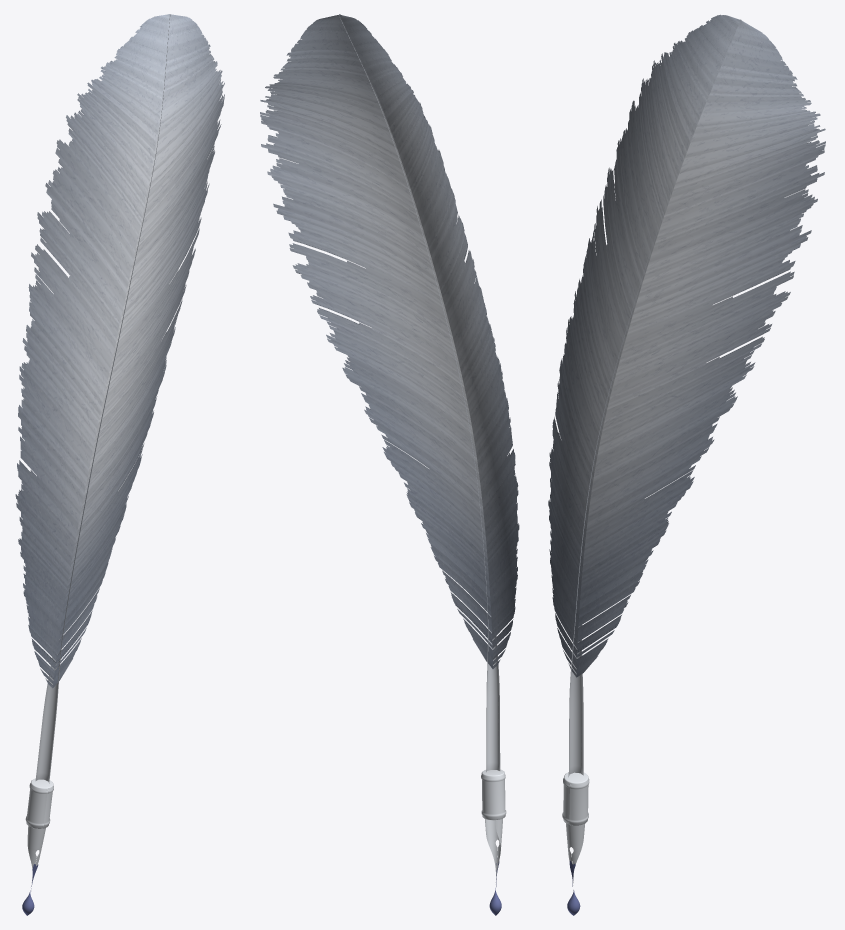
File: pluma.glb
The picture shows the model from 3 angles, left to right: view 1: azimuth 30°, elevation 25°; view 2: azimuth 150°, elevation 25°; view 3: azimuth 330°, elevation 25°; orthographic projection. The views are drawn at different scales.
Visible parts, largest first — view 1: Vexilo_izquierdo, Vexilo_derecho, Raquis, Virola; view 2: Vexilo_derecho, Vexilo_izquierdo, Raquis, Virola; view 3: Vexilo_derecho, Vexilo_izquierdo, Raquis, Virola.
Boxes of the visible parts, box(x1,y1,x2,y2) form: Vexilo_izquierdo: box(15, 14, 169, 687); Vexilo_derecho: box(53, 14, 224, 687); Raquis: box(35, 14, 170, 783); Virola: box(25, 778, 53, 828); Vexilo_derecho: box(260, 14, 492, 668); Vexilo_izquierdo: box(340, 14, 519, 668); Raquis: box(339, 14, 500, 771); Virola: box(481, 769, 506, 820); Vexilo_derecho: box(576, 20, 825, 677); Vexilo_izquierdo: box(548, 14, 740, 677); Raquis: box(568, 19, 741, 776); Virola: box(562, 772, 589, 825).
Size of the model in its own units: 1.08 by 3.76 by 0.3319.
4 materials, 1 textured.
